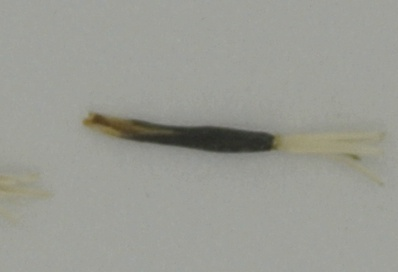เมล็ดงอกแตก: (81, 107, 386, 191)
